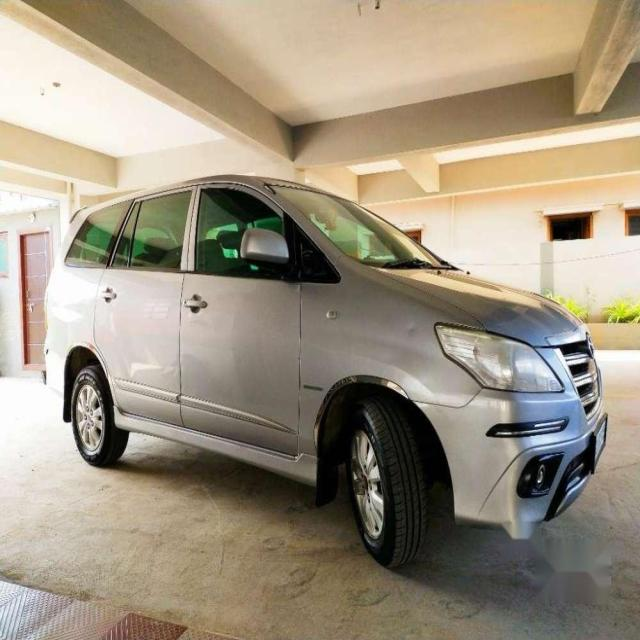light_vehicle: (41, 174, 609, 570)
